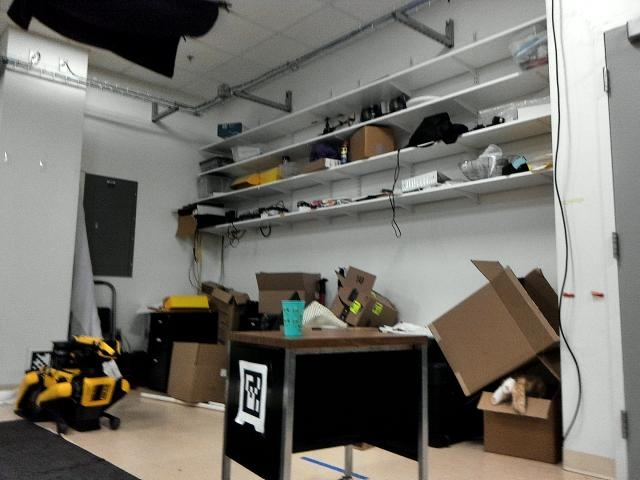coffee_cup: (280, 300, 306, 335)
